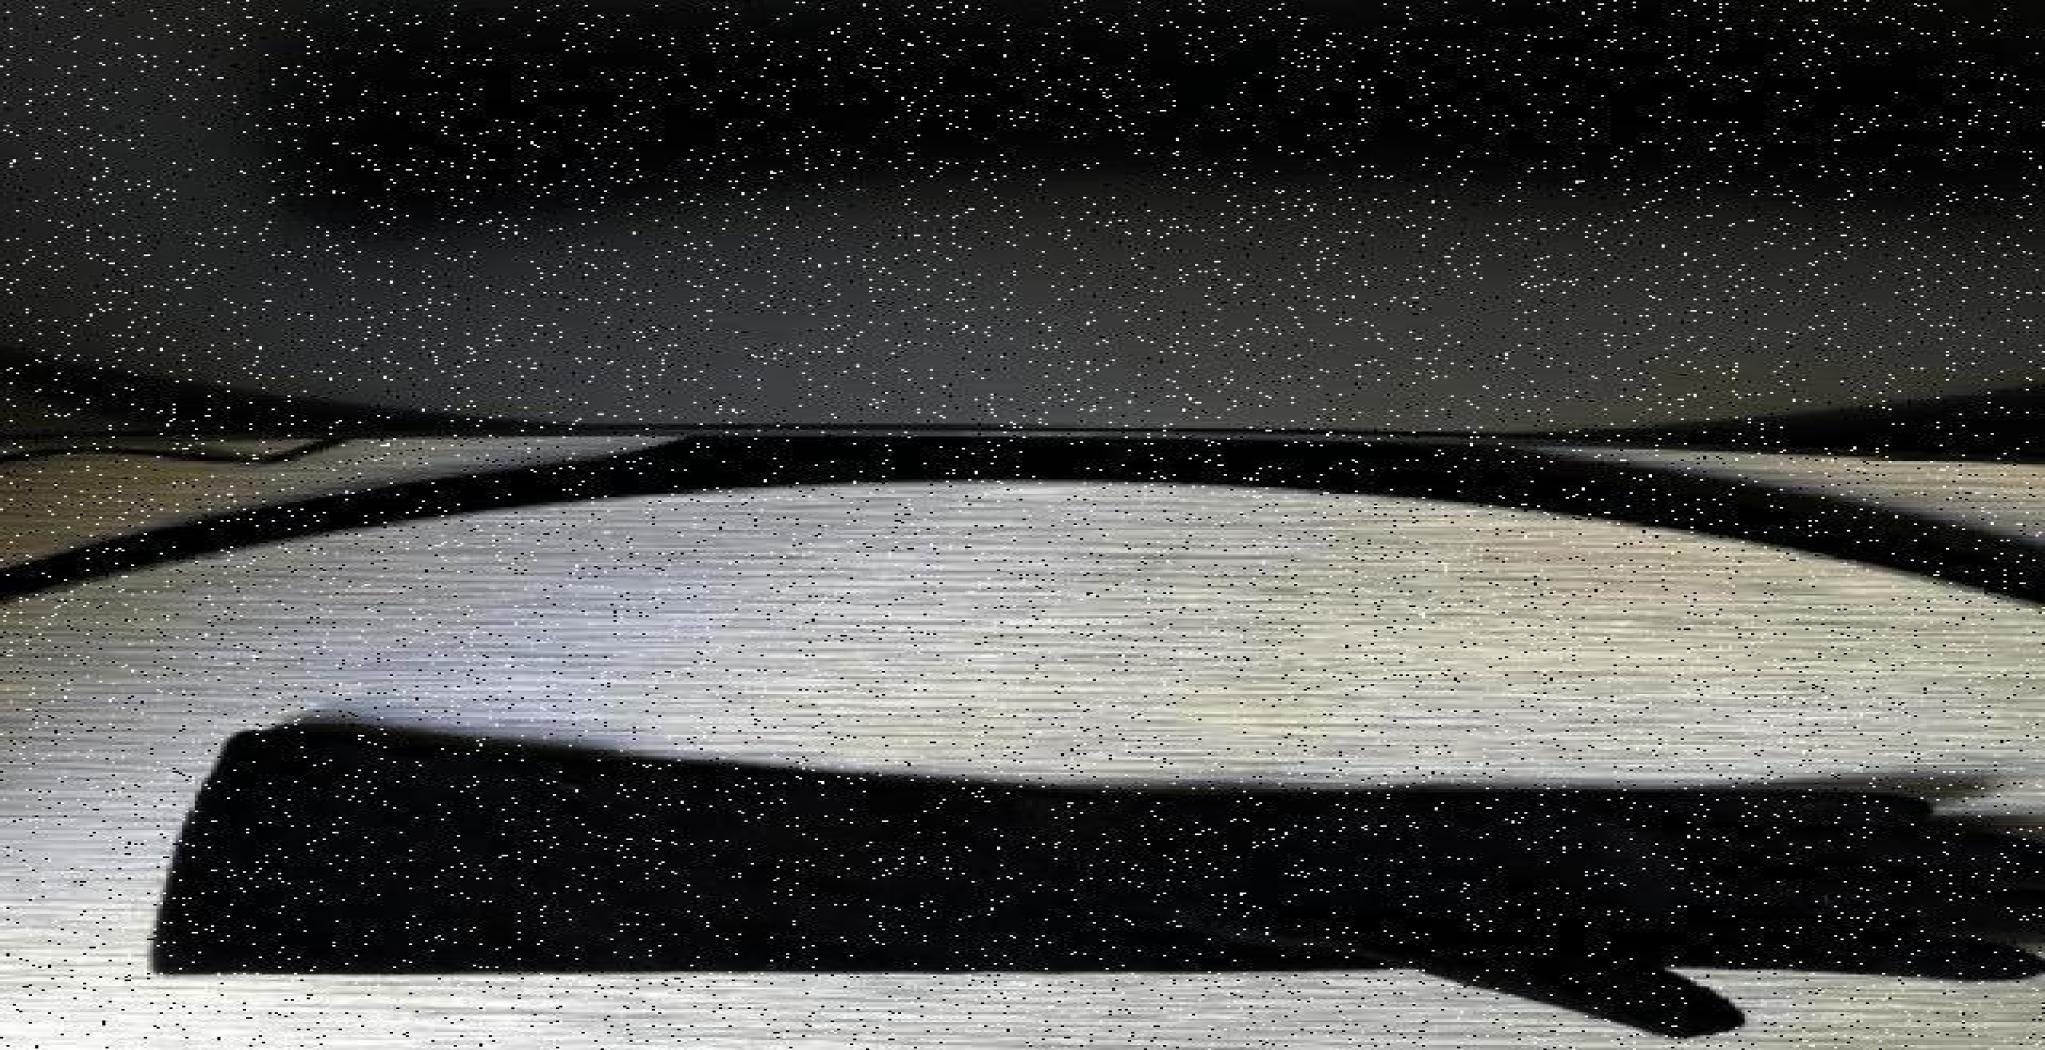gloved: (135, 670, 2045, 1050)
